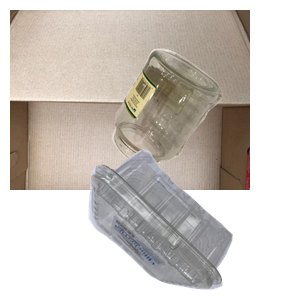cardboard: (10, 10, 250, 190)
glass: (110, 46, 300, 205)
plastic: (86, 147, 300, 300)
trash: (95, 157, 282, 300)
